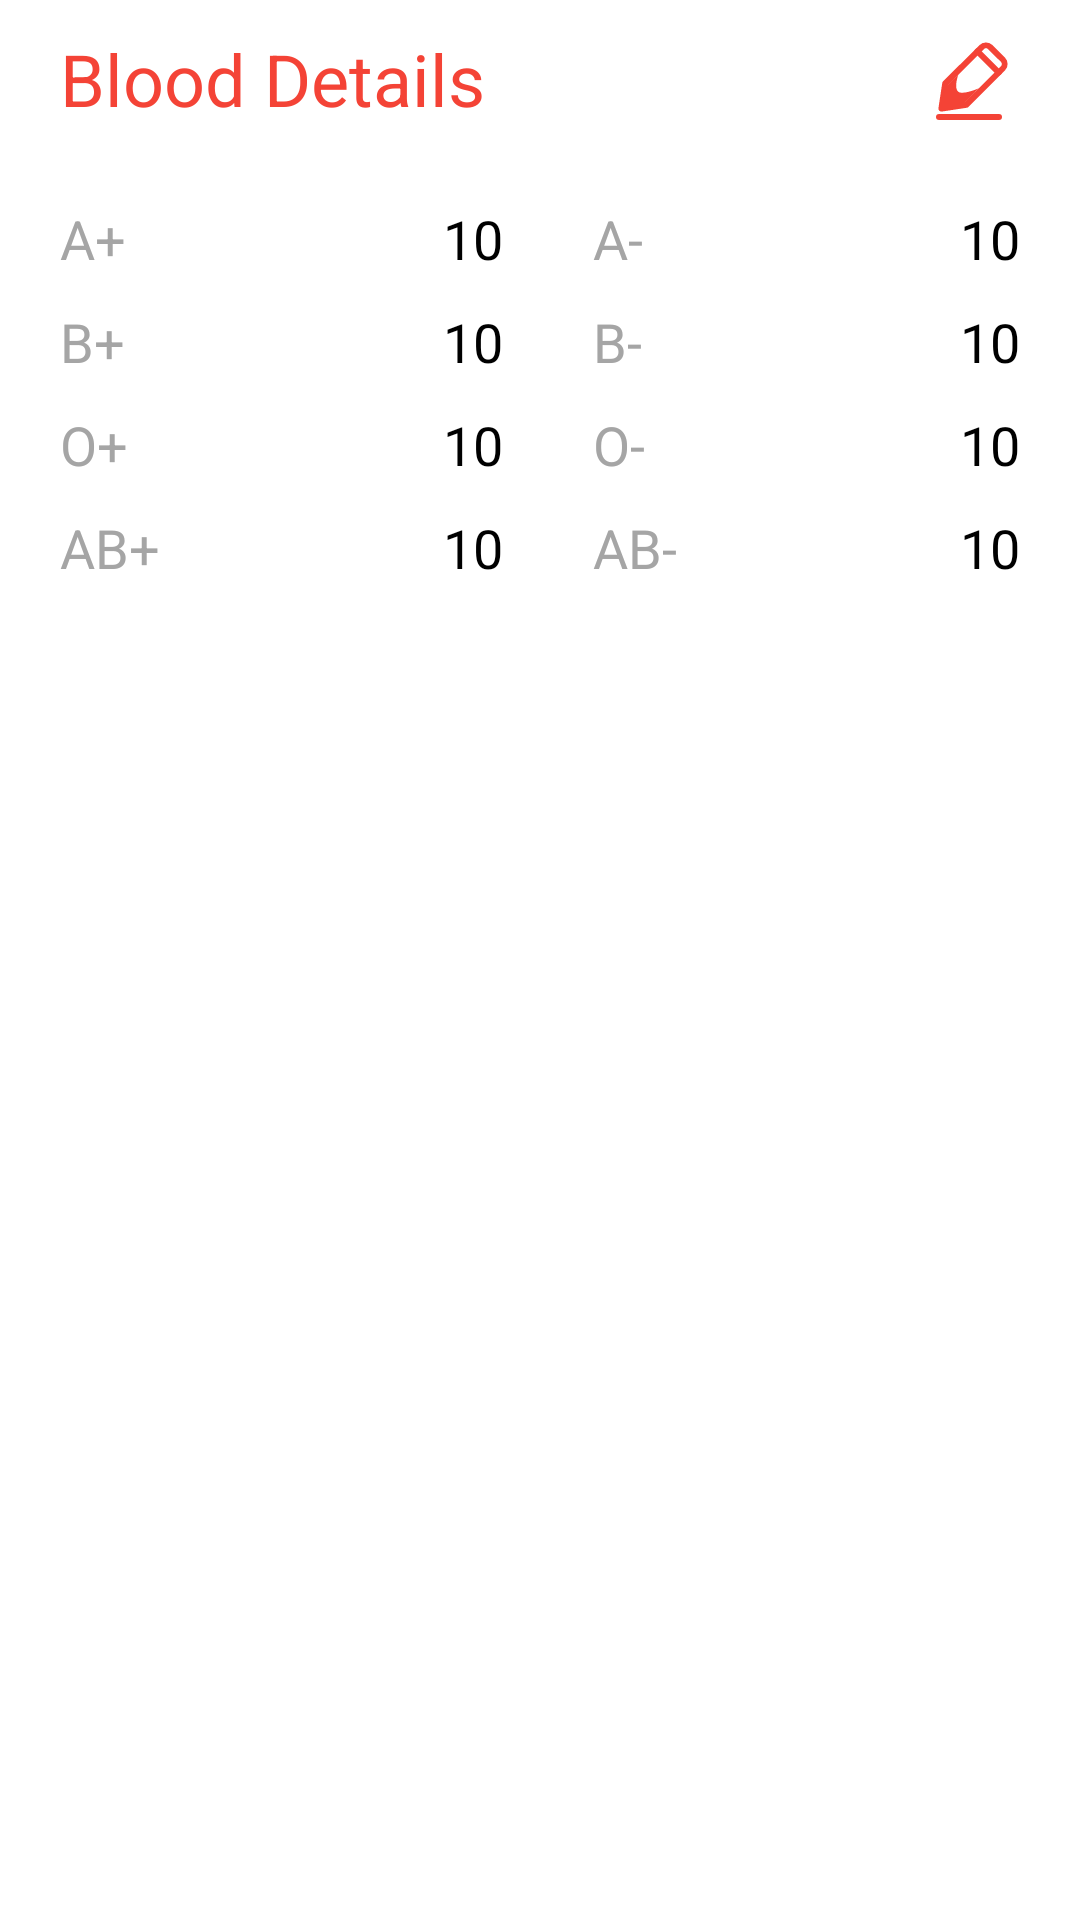

Where to tap for icons on this 1080px×1920px app screen, as (x=x, y=y):
edit: (x=972, y=81)
